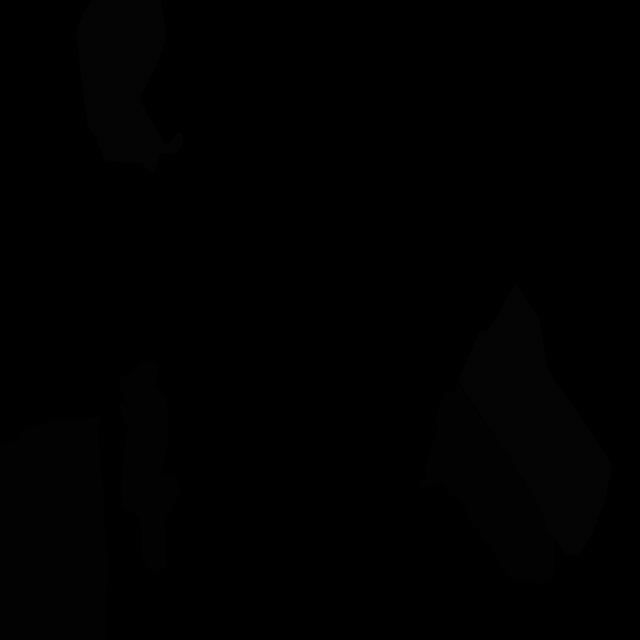cardboard: (418, 384, 556, 584), (0, 417, 109, 640), (118, 359, 180, 573)
soft_plastic: (458, 282, 612, 556), (76, 0, 183, 175)
